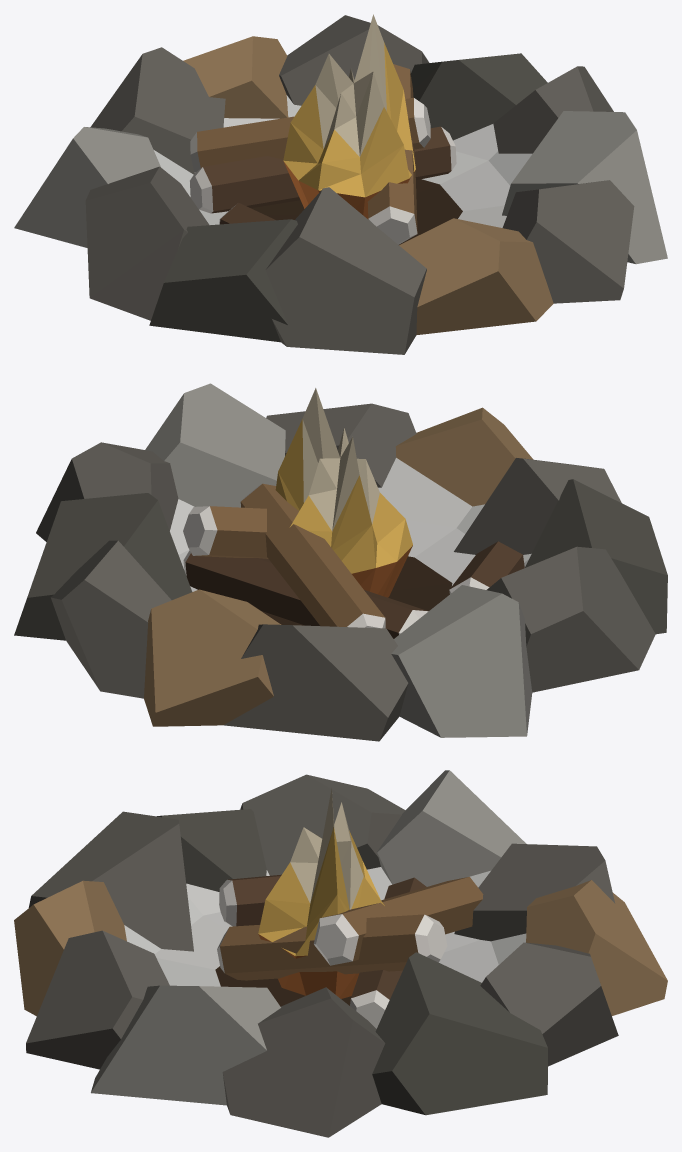
File: stone-fire-pit-4136b0.glb
The picture shows the model from 3 angles, top to bottom: view 1: azimuth 30°, elevation 25°; view 2: azimuth 150°, elevation 25°; view 3: azimuth 270°, elevation 25°; orthographic projection. The views are drawn at different scales.
Visible parts, largest first — view 1: fire-pit; view 2: fire-pit; view 3: fire-pit.
Part boxes in pixels (box(x1,y1,x2,y2)): fire-pit: box(14, 14, 667, 354); fire-pit: box(14, 383, 667, 741); fire-pit: box(14, 770, 667, 1137).
Size of the model in its own units: 1.21 by 0.4199 by 1.16.
